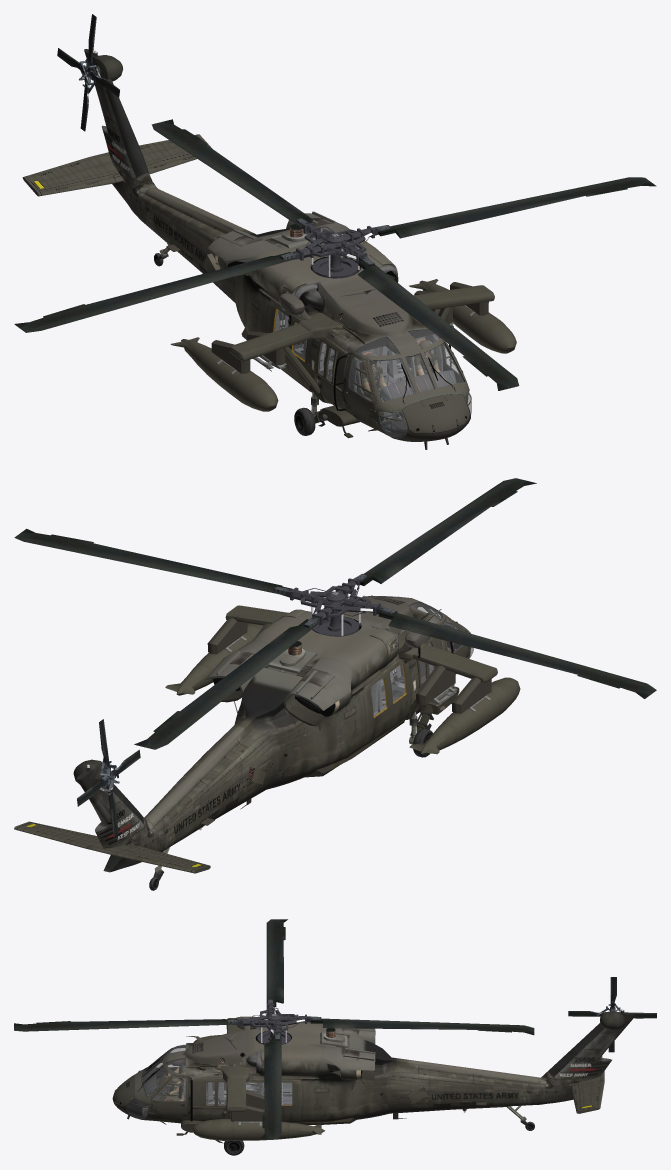
The picture shows the model from 3 angles, top to bottom: view 1: azimuth 30°, elevation 25°; view 2: azimuth 150°, elevation 25°; view 3: azimuth 270°, elevation 25°; orthographic projection. The views are drawn at different scales.
Visible parts, largest first — view 1: Object_10, Object_6, Object_9, Object_2, Object_7, Object_8; view 2: Object_10, Object_6, Object_2, Object_9; view 3: Object_10, Object_6, Object_9, Object_2, Object_7.
Part boxes in pixels (box(x1,y1,x2,y2)): Object_10: box(22, 49, 516, 449); Object_6: box(14, 14, 656, 416); Object_9: box(274, 309, 471, 438); Object_2: box(280, 218, 440, 421); Object_7: box(319, 329, 468, 439); Object_8: box(322, 330, 439, 418); Object_10: box(14, 593, 520, 890); Object_6: box(14, 478, 656, 836); Object_2: box(273, 573, 453, 652); Object_9: box(370, 607, 473, 716); Object_10: box(112, 1010, 637, 1155); Object_6: box(14, 919, 656, 1139); Object_9: box(125, 1048, 291, 1119); Object_2: box(156, 999, 321, 1101); Object_7: box(126, 1045, 292, 1119).
Bounding box in the file's own units: 2.02 × 0.6641 × 2.5.
10 materials, 9 textured.
